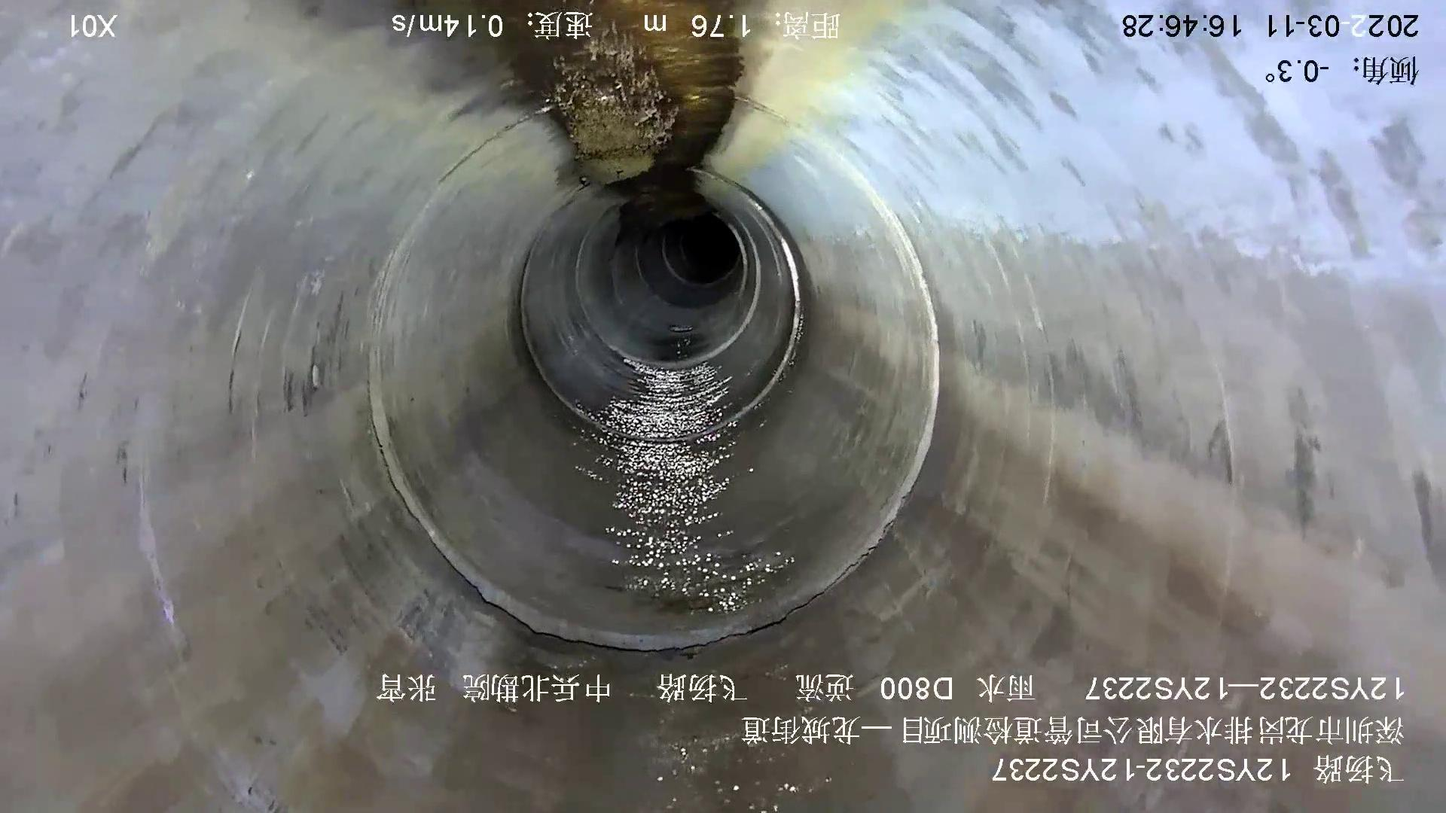CJ: (547, 30, 679, 183)
CKTJ: (370, 378, 789, 651), (733, 238, 804, 420)
